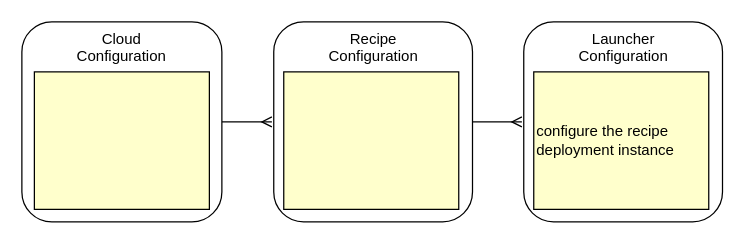
Some shapes in this 745 by 244 pixel diagram are drawn without their labels. Each missing label, with the centre of its shape:
configure cloud IaaS credentials required to launch infrastructure in the cloud: the point at 121,140
configure the parameters for launching the cloud infrastructure: the point at 370,140
